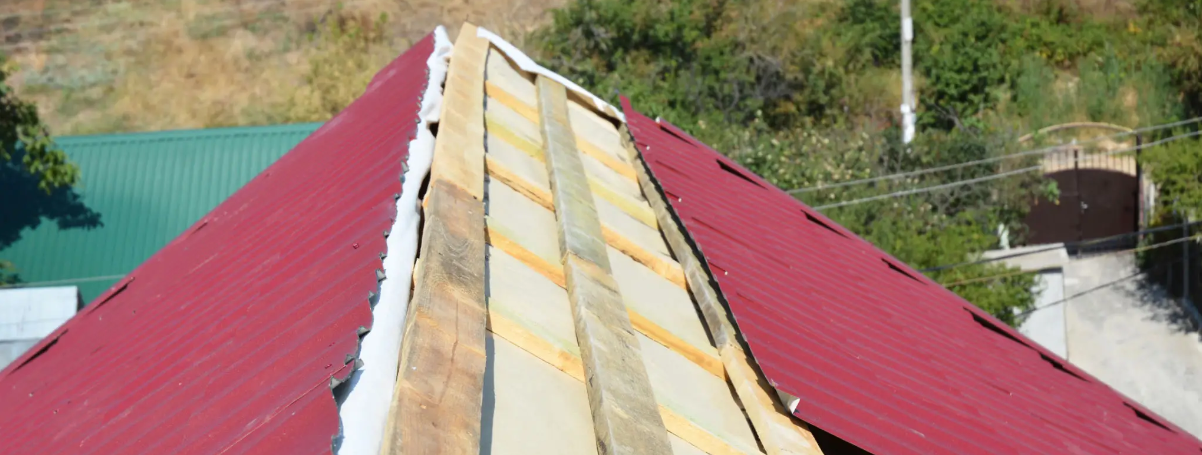Brick Chimini Damage: (390, 11, 935, 455)
